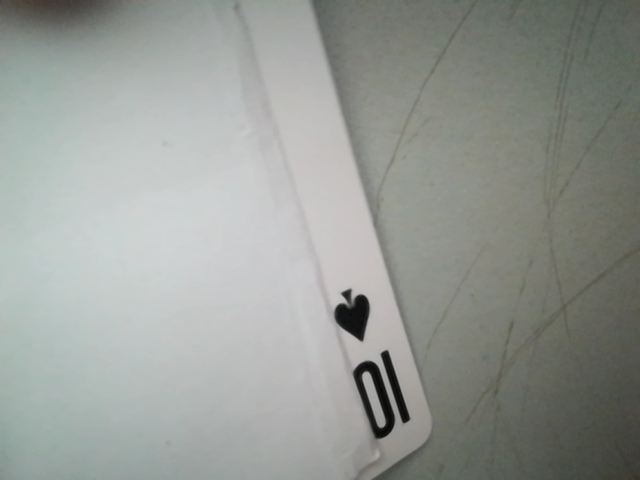ht 10: (321, 267, 437, 478)
